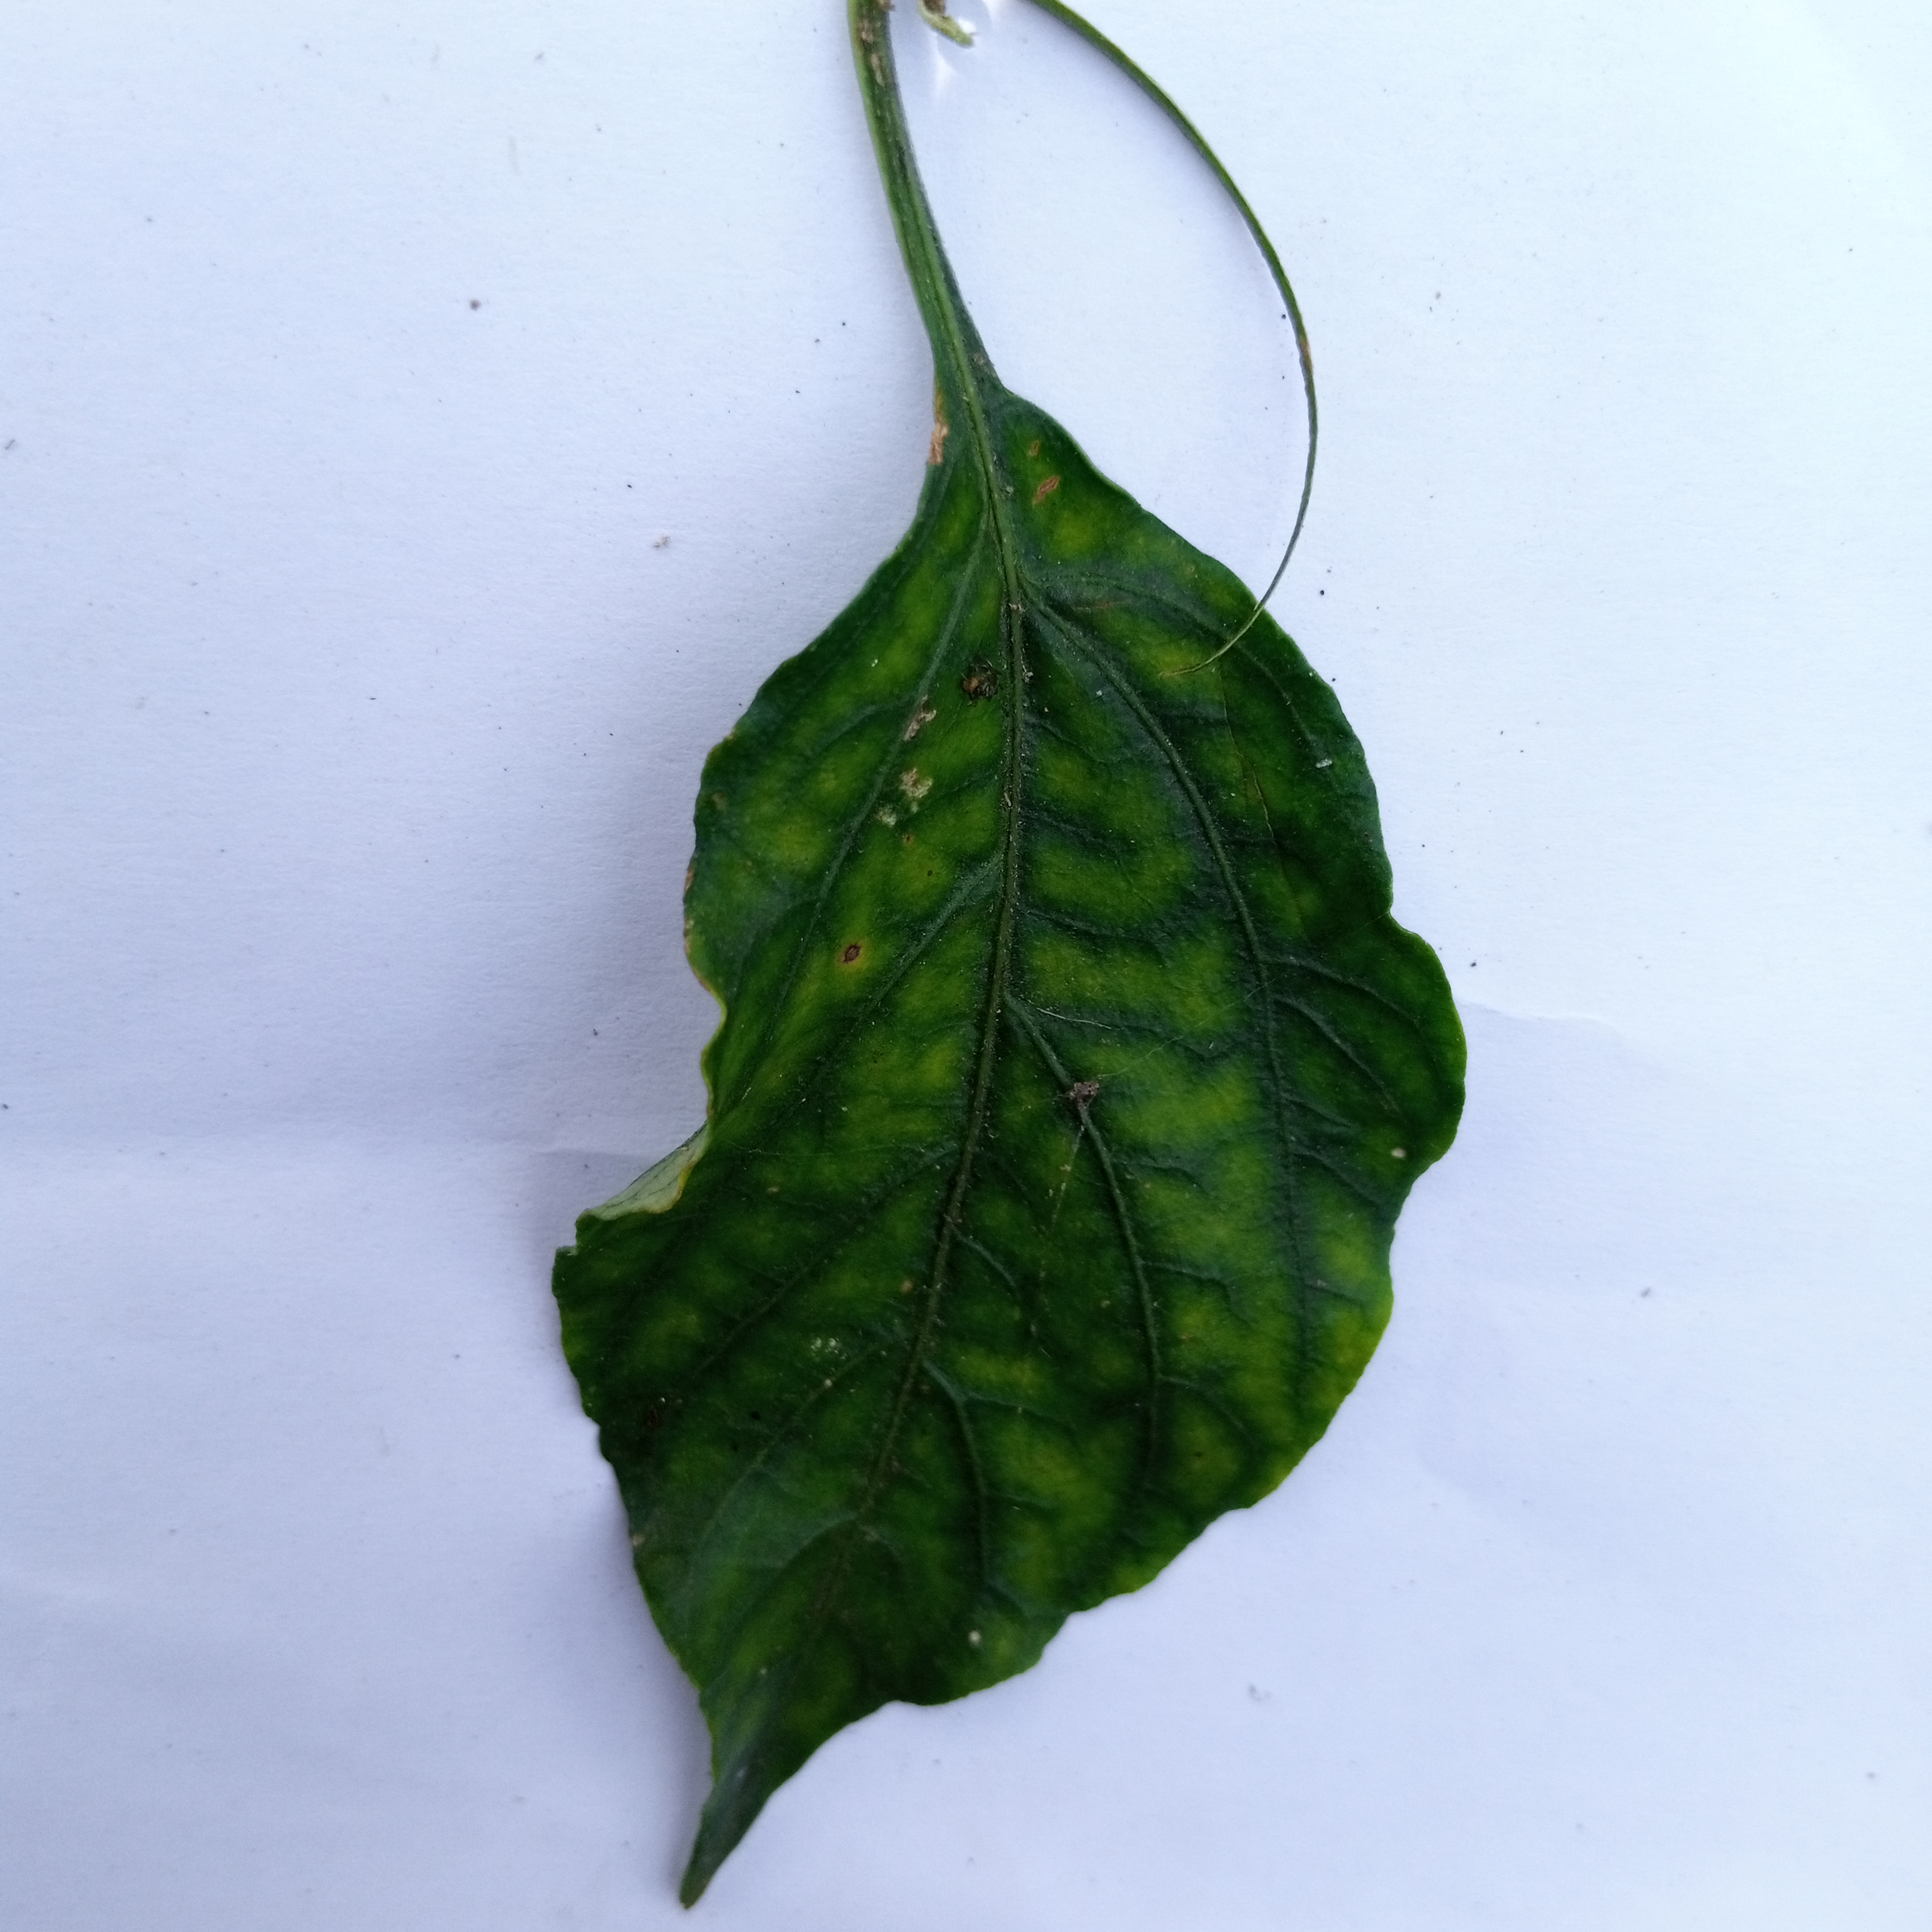Leaf: (460, 357, 1513, 1918)
